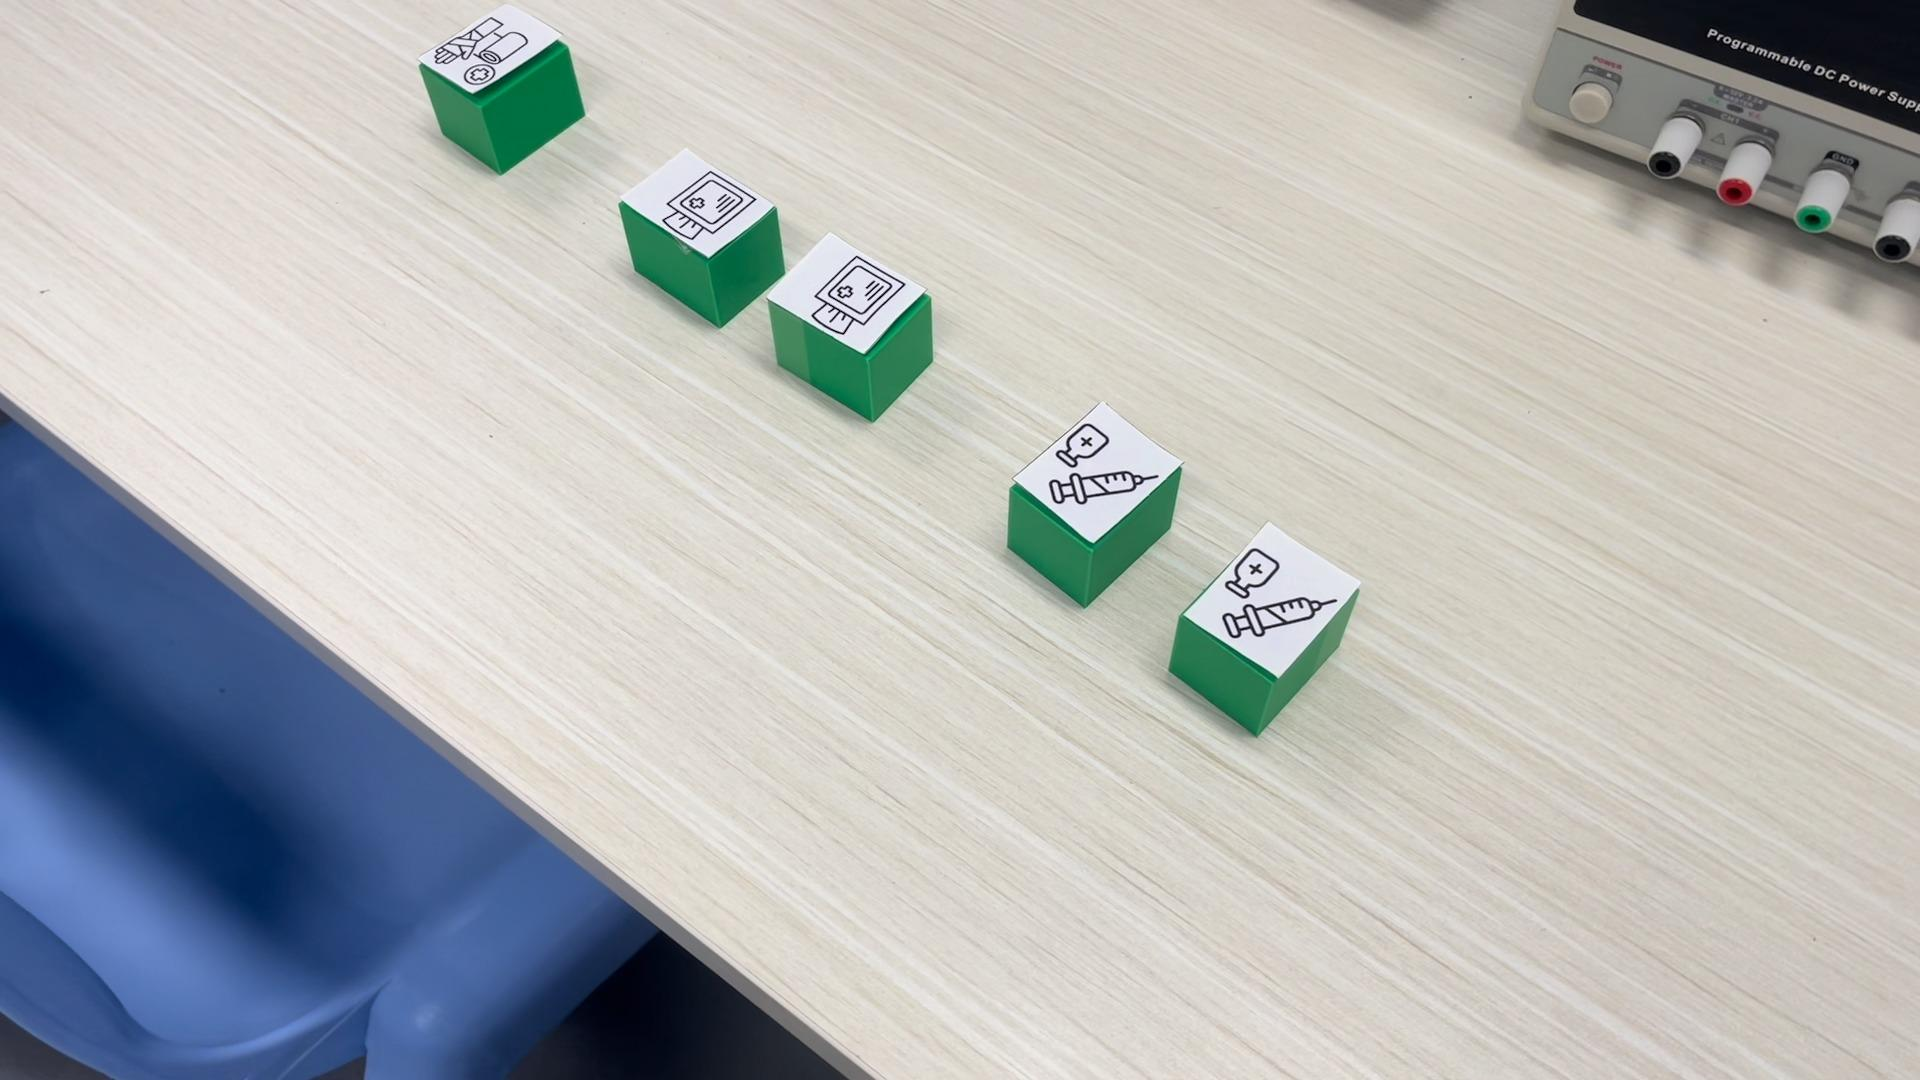Bandages: (417, 1, 585, 174)
Gauze: (767, 231, 935, 421), (616, 148, 782, 327)
antiseptic cream: (1166, 520, 1364, 735), (1005, 400, 1185, 608)
